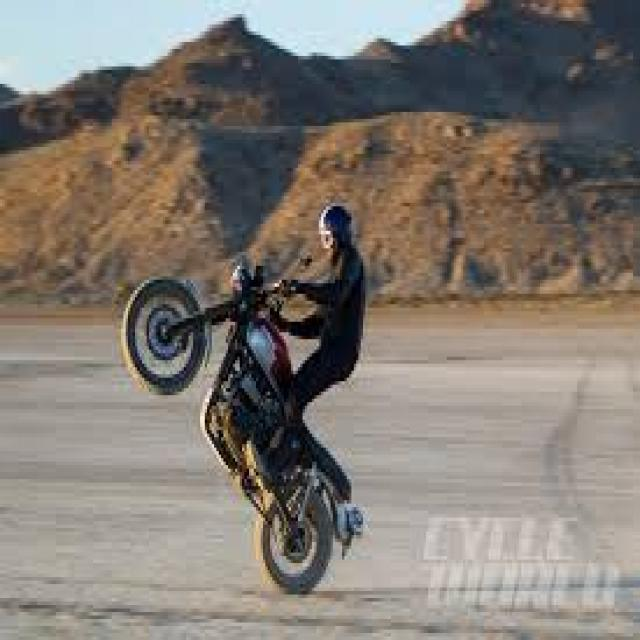Wheeling: (127, 199, 386, 595)
